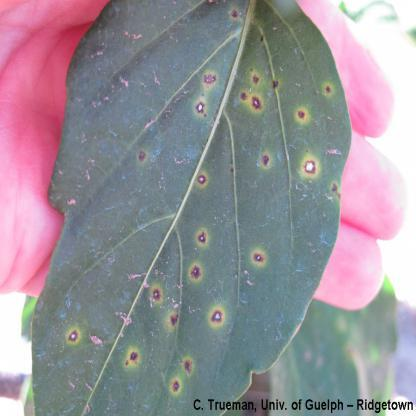Bell_pepper leaf: (36, 8, 351, 400)
